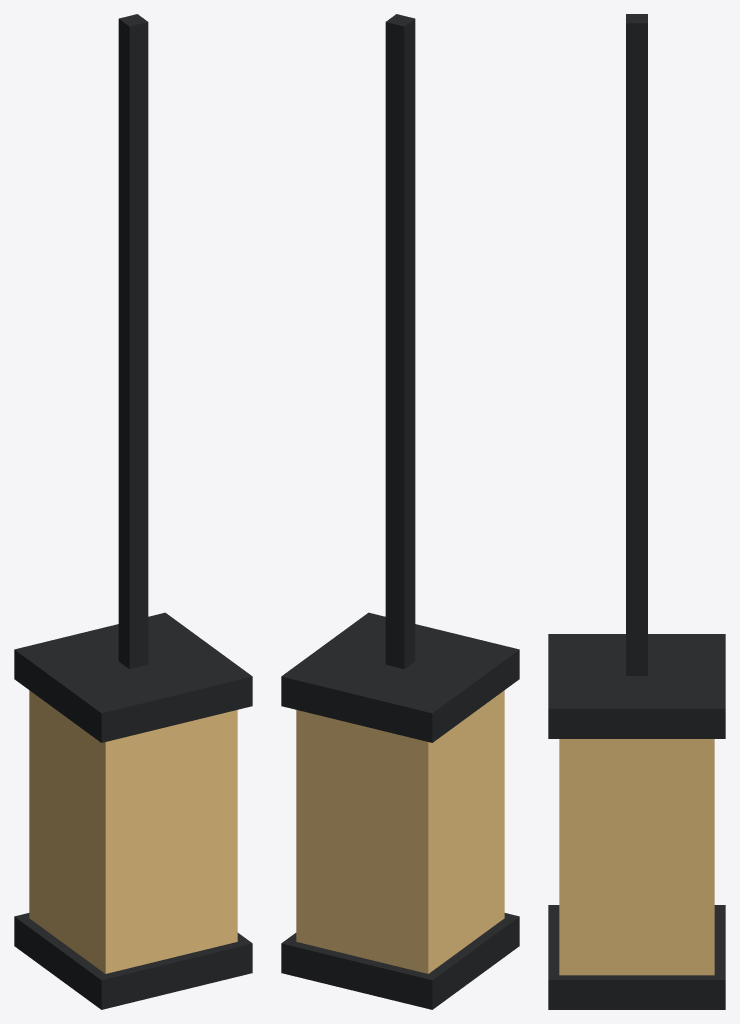
File: lantern.dae
3 renders of one model, left to right at view 1: azimuth 30°, elevation 25°; view 2: azimuth 150°, elevation 25°; view 3: azimuth 270°, elevation 25°, orthographic.
Visible parts, largest first — view 1: marker; view 2: marker; view 3: marker.
Boxes of the visible parts, <box> form: marker: <box>14,14,252,1009</box>; marker: <box>281,14,519,1009</box>; marker: <box>548,14,725,1009</box>.
Size of the model in its own units: 0.16 by 0.16 by 0.95.
Materials: 1 (1 with a texture image).
